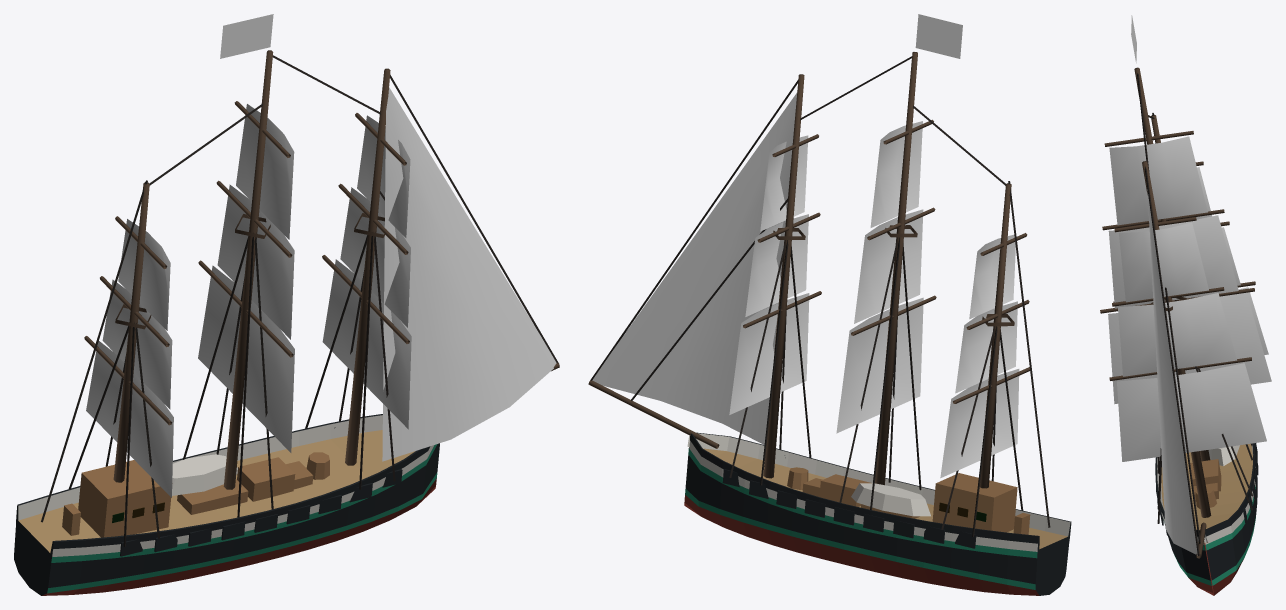
Rendered from hull_ship_flagship_sailing.glb.
3 renders of one model, left to right at view 1: azimuth 30°, elevation 25°; view 2: azimuth 150°, elevation 25°; view 3: azimuth 270°, elevation 25°, orthographic. The views are drawn at different scales.
Visible parts, largest first — view 1: hull_ship_flagship_sailing_sail_jib, hull_ship_flagship_sailing_hull, hull_ship_flagship_sailing_mast, hull_ship_flagship_sailing_rigging, hull_ship_flagship_sailing_sail_main, hull_ship_flagship_sailing_deck, hull_ship_flagship_sailing_sail_0, hull_ship_flagship_sailing_sail_6, hull_ship_flagship_sailing_sail_4, hull_ship_flagship_sailing_sail_5, hull_ship_flagship_sailing_sail_1, hull_ship_flagship_sailing_sail_7 (+6 smaller); view 2: hull_ship_flagship_sailing_hull, hull_ship_flagship_sailing_sail_jib, hull_ship_flagship_sailing_mast, hull_ship_flagship_sailing_rigging, hull_ship_flagship_sailing_sail_main, hull_ship_flagship_sailing_sail_0, hull_ship_flagship_sailing_deck, hull_ship_flagship_sailing_sail_6, hull_ship_flagship_sailing_sail_4, hull_ship_flagship_sailing_sail_1, hull_ship_flagship_sailing_sail_5, hull_ship_flagship_sailing_sail_7 (+6 smaller); view 3: hull_ship_flagship_sailing_sail_0, hull_ship_flagship_sailing_hull, hull_ship_flagship_sailing_sail_1, hull_ship_flagship_sailing_sail_5, hull_ship_flagship_sailing_sail_jib, hull_ship_flagship_sailing_sail_2, hull_ship_flagship_sailing_mast, hull_ship_flagship_sailing_sail_main, hull_ship_flagship_sailing_sail_4, hull_ship_flagship_sailing_rigging, hull_ship_flagship_sailing_deck, hull_ship_flagship_sailing_shipsboat (+3 smaller).
Part boxes in pixels (left/top/right/bottom): hull_ship_flagship_sailing_sail_jib: left=382, top=87, right=556, bottom=461; hull_ship_flagship_sailing_hull: left=14, top=414, right=439, bottom=595; hull_ship_flagship_sailing_mast: left=84, top=50, right=559, bottom=489; hull_ship_flagship_sailing_rigging: left=41, top=55, right=558, bottom=546; hull_ship_flagship_sailing_sail_main: left=198, top=265, right=294, bottom=452; hull_ship_flagship_sailing_deck: left=78, top=457, right=295, bottom=537; hull_ship_flagship_sailing_sail_0: left=322, top=259, right=411, bottom=429; hull_ship_flagship_sailing_sail_6: left=86, top=341, right=173, bottom=497; hull_ship_flagship_sailing_sail_4: left=217, top=184, right=294, bottom=339; hull_ship_flagship_sailing_sail_5: left=236, top=104, right=294, bottom=239; hull_ship_flagship_sailing_sail_1: left=340, top=187, right=410, bottom=327; hull_ship_flagship_sailing_sail_7: left=102, top=279, right=172, bottom=409; hull_ship_flagship_sailing_hull: left=684, top=432, right=1071, bottom=595; hull_ship_flagship_sailing_sail_jib: left=592, top=92, right=797, bottom=444; hull_ship_flagship_sailing_mast: left=588, top=52, right=1029, bottom=488; hull_ship_flagship_sailing_rigging: left=590, top=56, right=1050, bottom=536; hull_ship_flagship_sailing_sail_main: left=836, top=297, right=923, bottom=433; hull_ship_flagship_sailing_sail_0: left=729, top=293, right=809, bottom=414; hull_ship_flagship_sailing_deck: left=819, top=473, right=1017, bottom=532; hull_ship_flagship_sailing_sail_6: left=940, top=369, right=1019, bottom=478; hull_ship_flagship_sailing_sail_4: left=854, top=209, right=923, bottom=323; hull_ship_flagship_sailing_sail_1: left=745, top=214, right=808, bottom=316; hull_ship_flagship_sailing_sail_5: left=870, top=121, right=922, bottom=227; hull_ship_flagship_sailing_sail_7: left=955, top=301, right=1017, bottom=393; hull_ship_flagship_sailing_sail_0: left=1117, top=363, right=1266, bottom=461; hull_ship_flagship_sailing_hull: left=1155, top=443, right=1257, bottom=595; hull_ship_flagship_sailing_sail_1: left=1118, top=293, right=1236, bottom=376; hull_ship_flagship_sailing_sail_5: left=1109, top=136, right=1207, bottom=225; hull_ship_flagship_sailing_sail_jib: left=1147, top=189, right=1197, bottom=555; hull_ship_flagship_sailing_sail_2: left=1119, top=222, right=1208, bottom=302; hull_ship_flagship_sailing_mast: left=1100, top=67, right=1255, bottom=558; hull_ship_flagship_sailing_sail_main: left=1108, top=294, right=1271, bottom=404; hull_ship_flagship_sailing_sail_4: left=1108, top=215, right=1238, bottom=308; hull_ship_flagship_sailing_rigging: left=1137, top=73, right=1252, bottom=556; hull_ship_flagship_sailing_deck: left=1190, top=459, right=1221, bottom=491; hull_ship_flagship_sailing_shipsboat: left=1208, top=445, right=1239, bottom=466.
Bounding box in the file's own units: 33.34 × 35.48 × 11.29.
